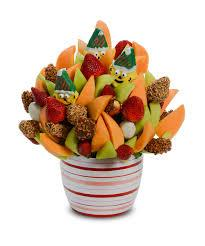Organic: (20, 25, 205, 231)
